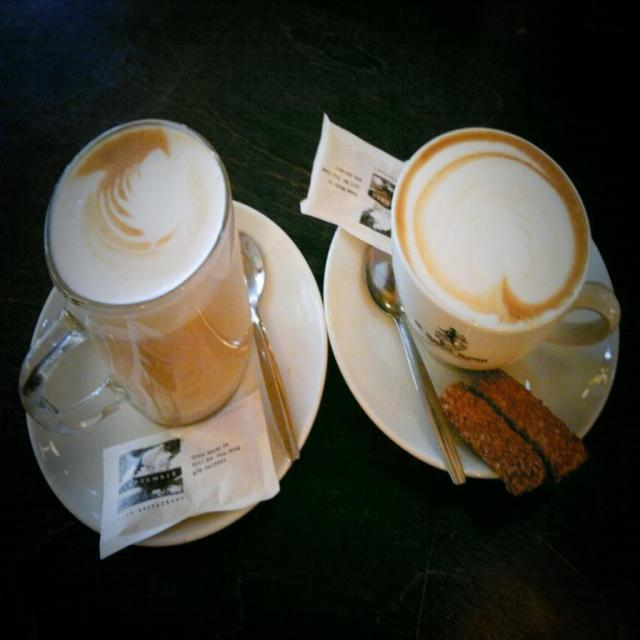cup-handle: (390, 126, 622, 372)
glass-mug: (15, 118, 256, 428)
